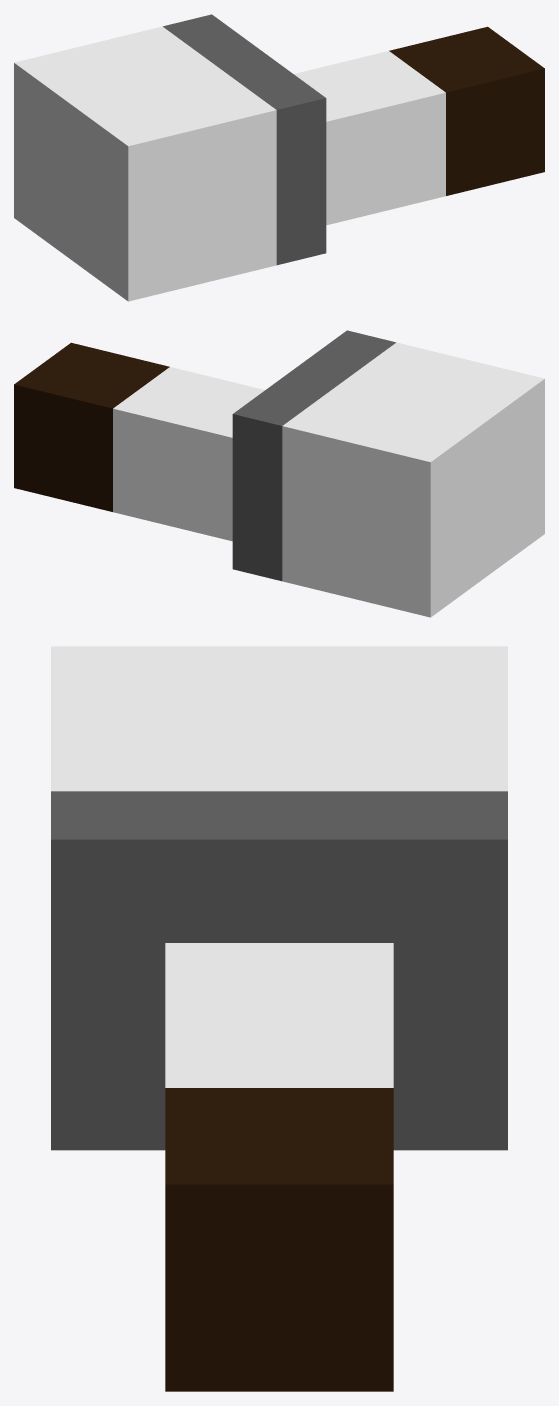
The model's file is RightHand.obj.
3 views of the same model, one above another, from view 1: azimuth 30°, elevation 25°; view 2: azimuth 150°, elevation 25°; view 3: azimuth 270°, elevation 25° (orthographic). The views are drawn at different scales.
Parts seen in each view (by area): view 1: RightHand; view 2: RightHand; view 3: RightHand.
Boxes of the visible parts, x1=… form: RightHand: x1=14, y1=14, x2=544, y2=301; RightHand: x1=14, y1=330, x2=544, y2=617; RightHand: x1=51, y1=646, x2=507, y2=1391.
Size of the model in its own units: 9 by 3 by 4.
Materials: 1 (1 with a texture image).
